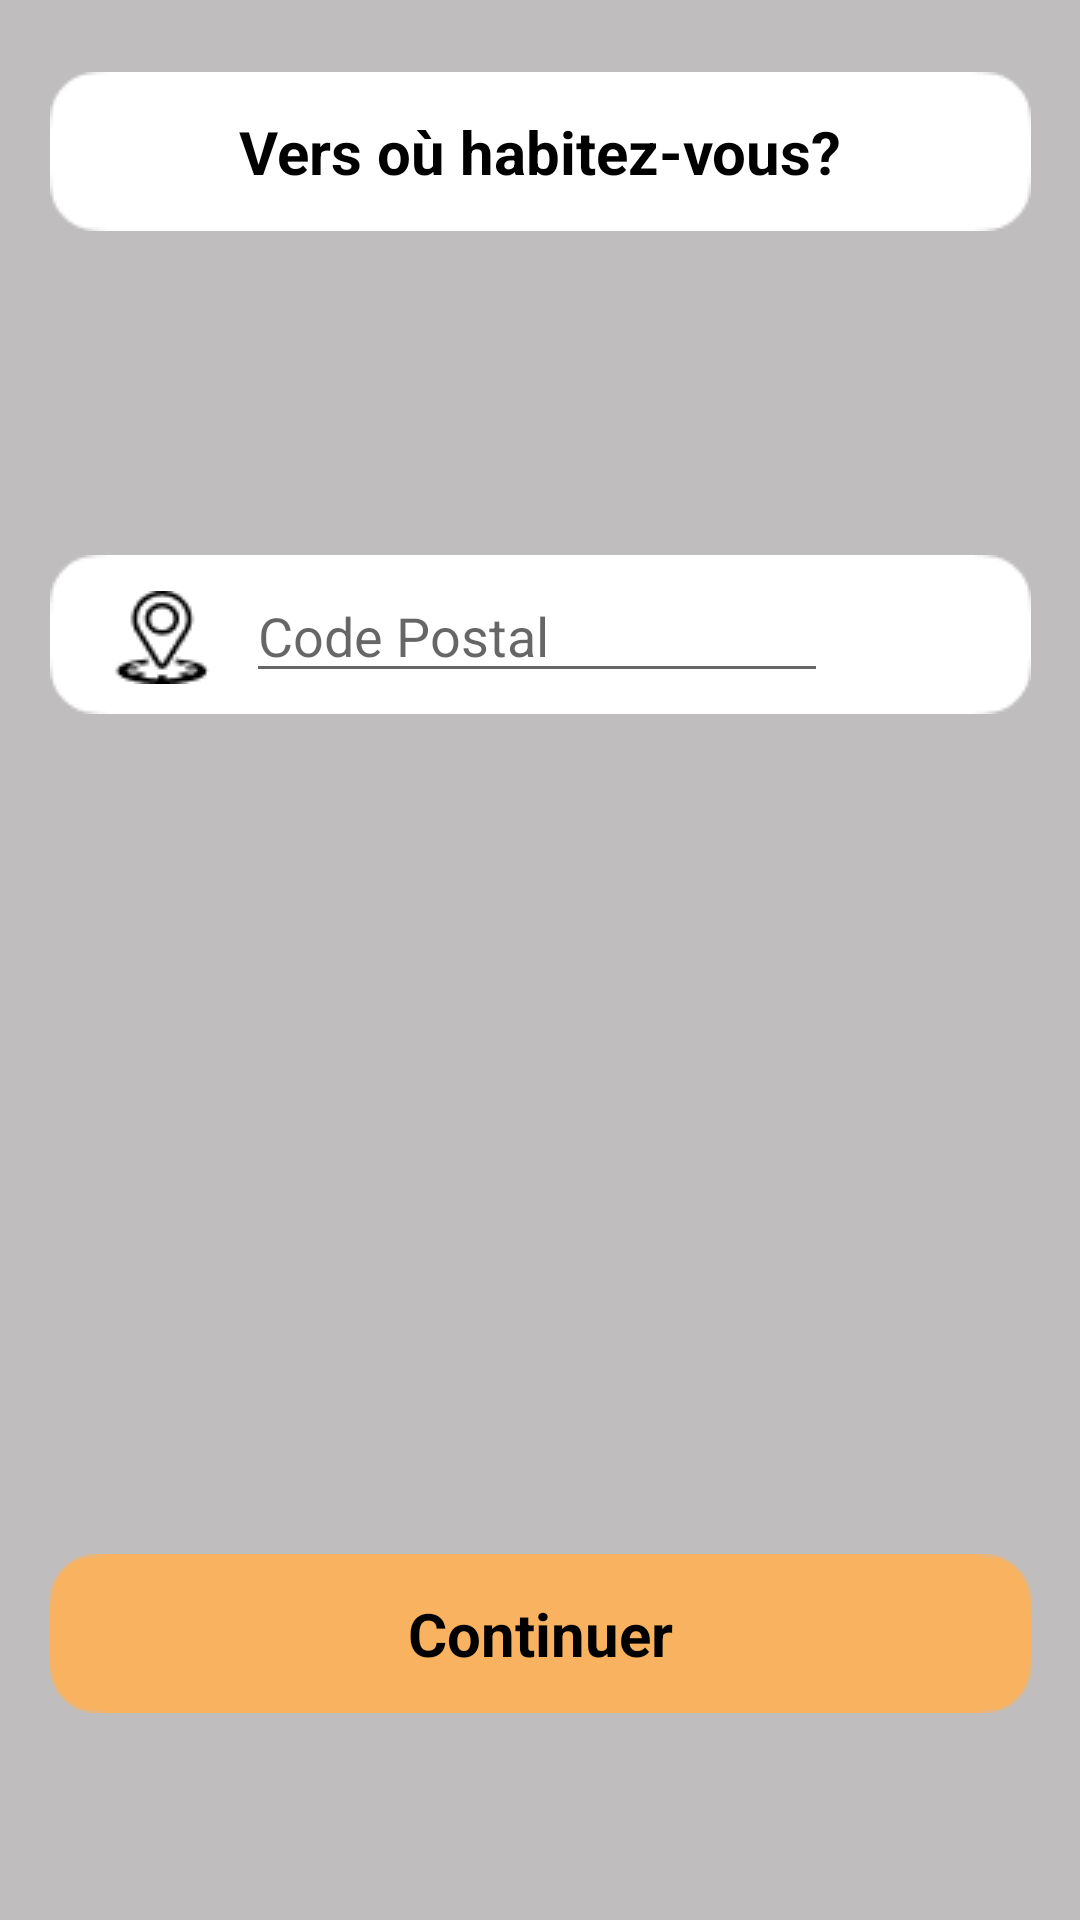

Locate icon controls on the screen. Image size 1080×1920, boxes as (x1, y1, x2, y2).
position geo: (115, 591, 208, 684)
